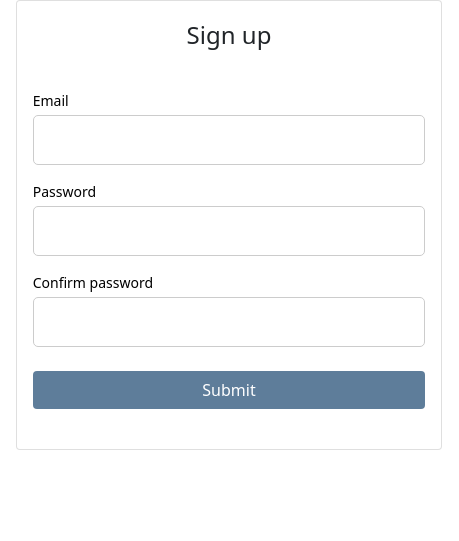
Test: SignupContainer › should show success alert if all inputs are correct
The width and height of the screenshot is (459, 541).
Expected: the number of forms is 1, [33,74,425,433]
In the field: (229, 140) [33,115,425,165], type "email@email.com"
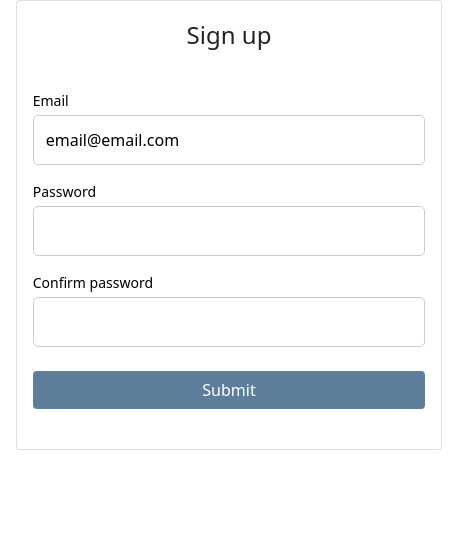
In the 1st password field: (229, 231) [33,206,425,256], type "Qwerty-123"
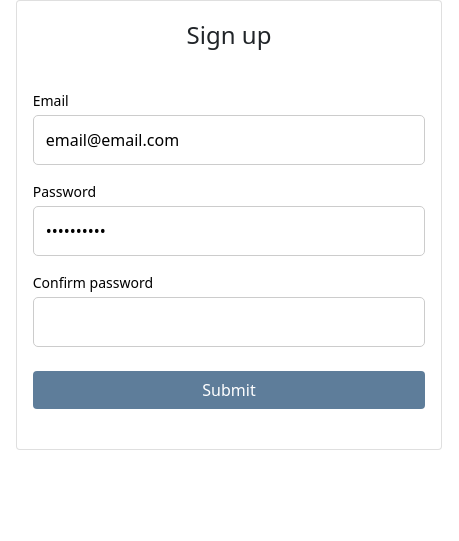
In the 2nd password field: (229, 322) [33,297,425,347], type "Qwerty-123"
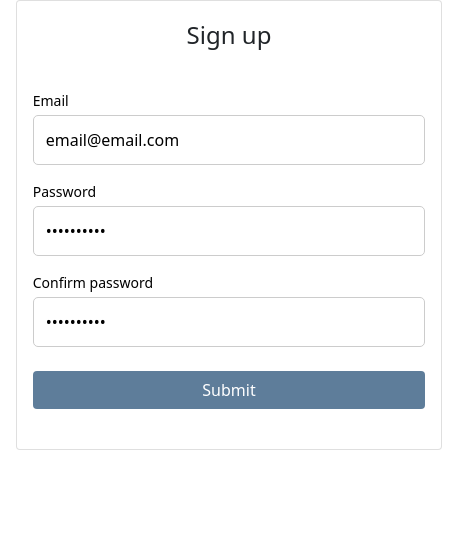
Submit the form, box [33,74,425,433]
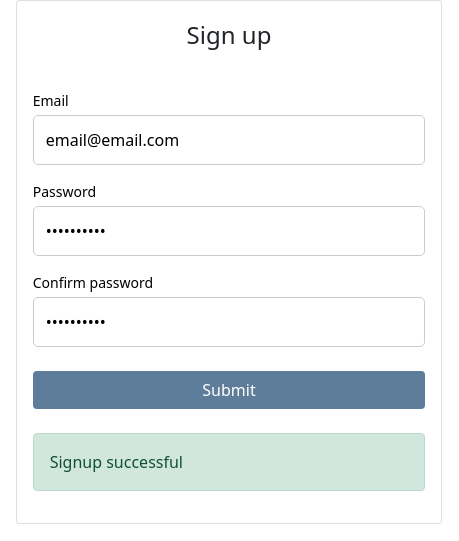
Result: the number of "Alert" components is 1 at [33,433,425,491]
